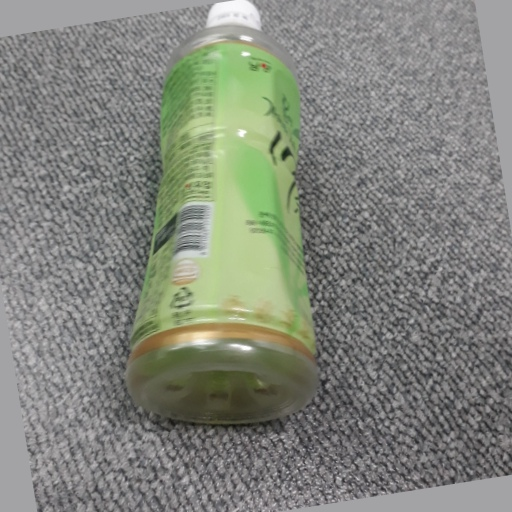Plastic_0: (127, 1, 319, 419)
